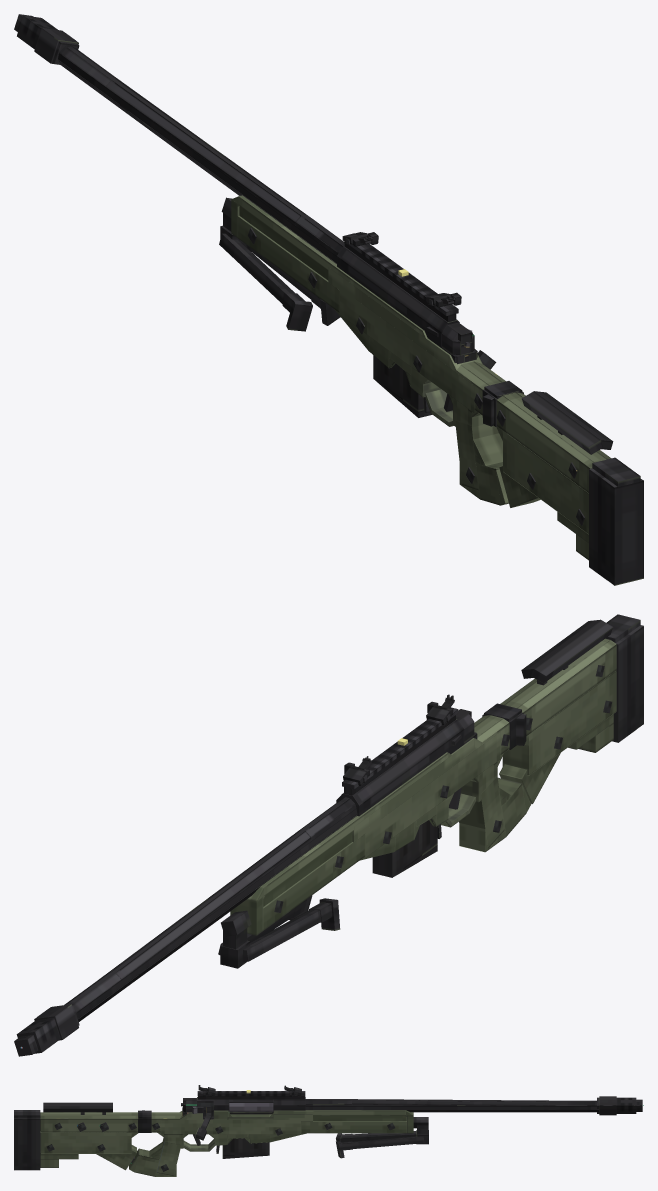
3 views of the same model, one above another, from view 1: azimuth 30°, elevation 25°; view 2: azimuth 150°, elevation 25°; view 3: azimuth 270°, elevation 25° (orthographic). The views are drawn at different scales.
Parts seen in each view (by area): view 1: gun_112, coL, magazine_2, bolt2_5, coR; view 2: gun_112, coL, magazine_2; view 3: gun_112, bolt2_5, coR, magazine_2, coL.
Part boxes in pixels (left/top/right/bottom): gun_112: left=14, top=14, right=643, bottom=585; coL: left=219, top=233, right=312, bottom=331; magazine_2: left=373, top=355, right=432, bottom=417; bolt2_5: left=442, top=322, right=496, bottom=369; coR: left=246, top=245, right=340, bottom=325; gun_112: left=14, top=614, right=643, bottom=1056; coL: left=242, top=898, right=340, bottom=961; magazine_2: left=372, top=819, right=437, bottom=877; gun_112: left=14, top=1091, right=642, bottom=1176; bolt2_5: left=181, top=1098, right=273, bottom=1140; coR: left=336, top=1136, right=424, bottom=1158; magazine_2: left=222, top=1138, right=269, bottom=1158; coL: left=336, top=1131, right=416, bottom=1141.
Bounding box in the file's own units: 0.6907 × 1.55 × 10.05.
